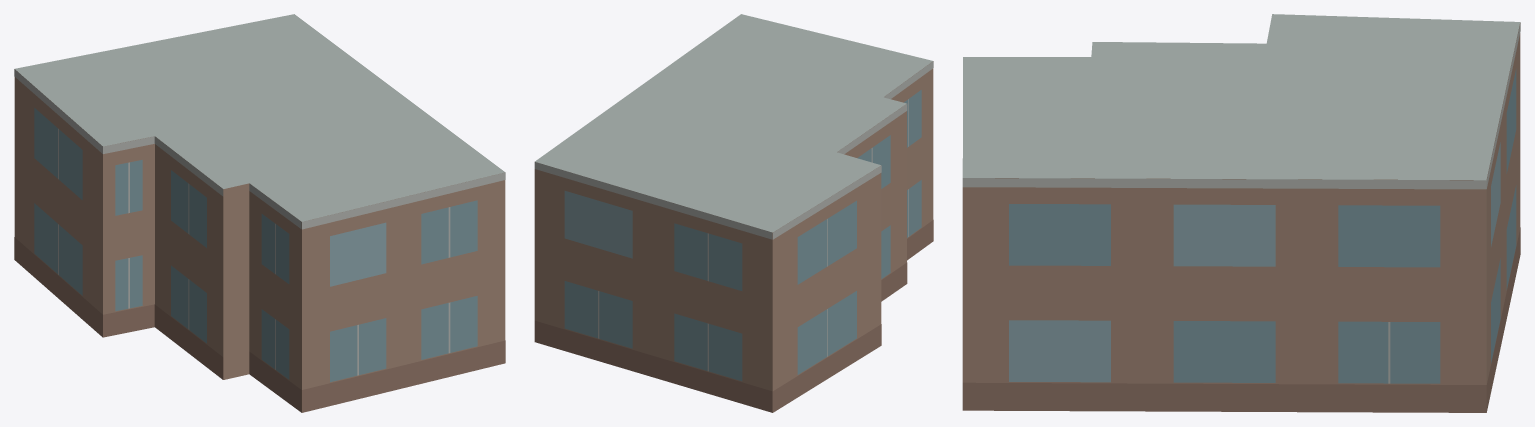
Rendered from survey-upis-32475716.glb.
The picture shows the model from 3 angles, left to right: view 1: azimuth 30°, elevation 25°; view 2: azimuth 150°, elevation 25°; view 3: azimuth 270°, elevation 25°; orthographic projection. The views are drawn at different scales.
Parts seen in each view (by area): view 1: survey-upis-32475716.tmp; view 2: survey-upis-32475716.tmp; view 3: survey-upis-32475716.tmp.
Part boxes in pixels (x1,y1,x2,y2): survey-upis-32475716.tmp: (14,14,505,412); survey-upis-32475716.tmp: (534,14,933,412); survey-upis-32475716.tmp: (962,14,1520,412).
Size of the model in its own units: 9.35 by 6.1 by 13.26.
